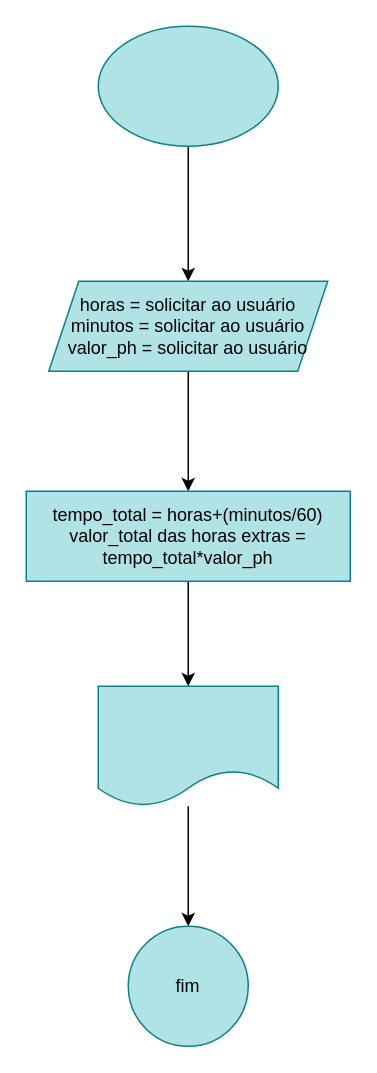
Image size: 377x1073. Some labels were removed from this diagram. Each missing label, with the centre of its shape:
"inicio" belongs at pixel 187 85.
"valor total das horas extras" belongs at pixel 187 745.
